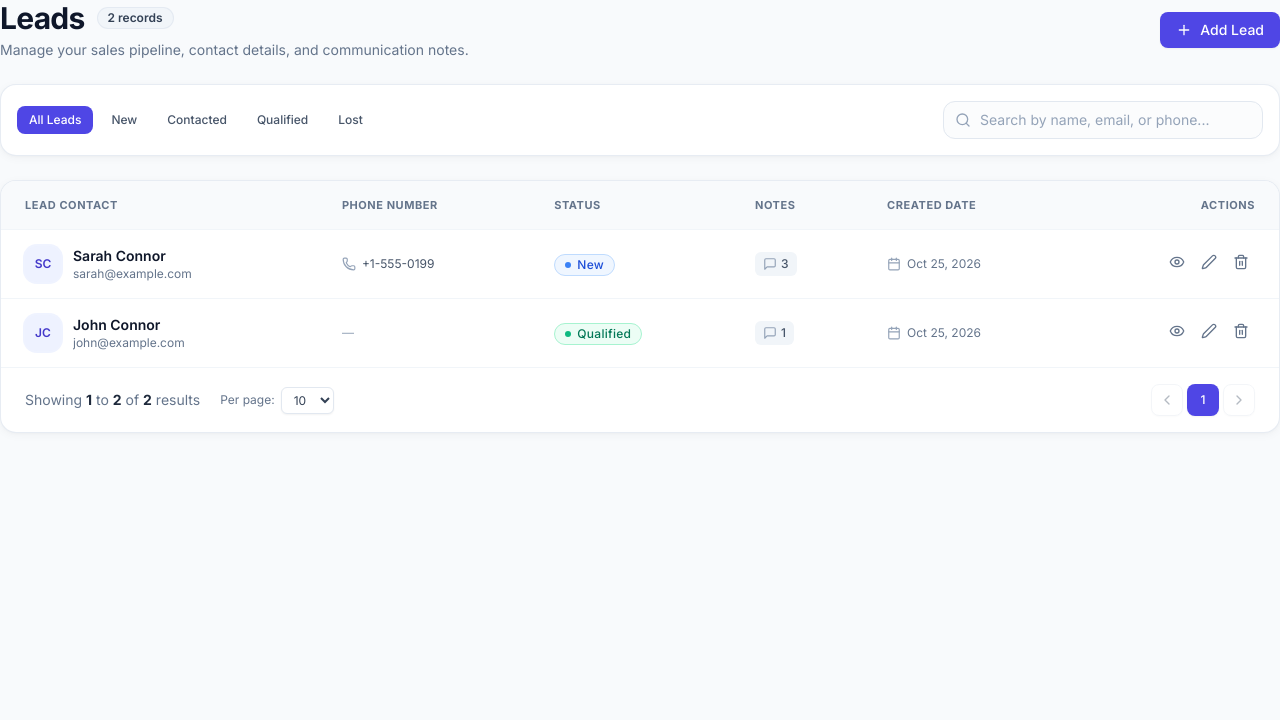
it: LeadsListPage › opens delete confirmation modal when delete button is clicked
Expected: the link "Sarah Connor" is shown, 73,247 -> 166,264
Click the button named "Delete Sarah Connor": (1241, 262) 1227,248 -> 1255,276
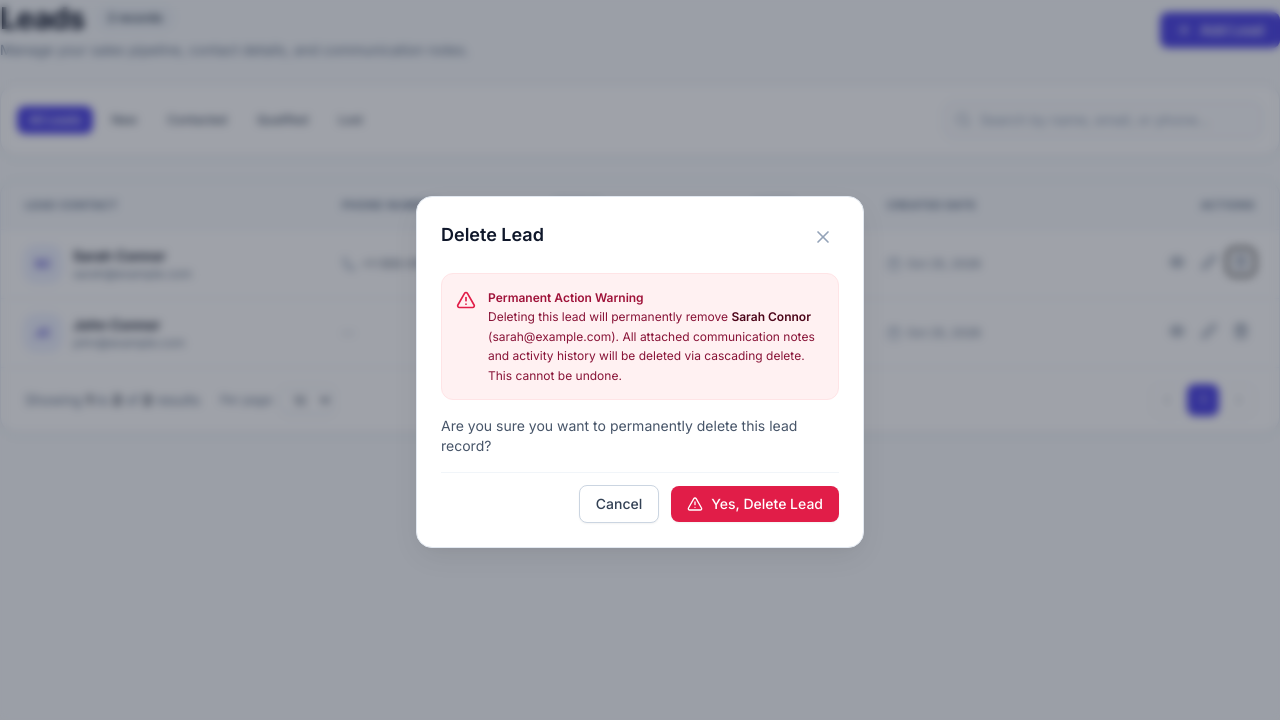
Expected: the dialog is shown
Expected: the text "Permanent Action Warning" is shown, 488,290 -> 644,305
